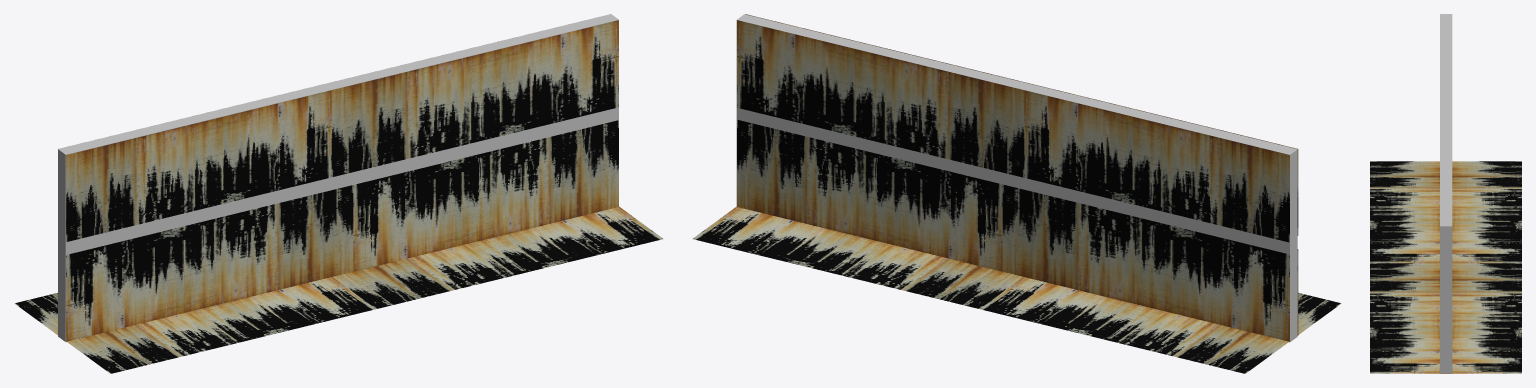
The model's file is TiledBrick4.FBX.
3 views of the same model, side by side, from view 1: azimuth 30°, elevation 25°; view 2: azimuth 150°, elevation 25°; view 3: azimuth 270°, elevation 25° (orthographic). The views are drawn at different scales.
Visible parts, largest first — view 1: TiledBrick4; view 2: TiledBrick4; view 3: TiledBrick4.
Boxes of the visible parts, x1,y1,x2,y2 form: TiledBrick4: (14,14,662,373); TiledBrick4: (692,14,1341,373); TiledBrick4: (1370,14,1521,373).
Bounding box in the file's own units: 869 × 281 × 262.
